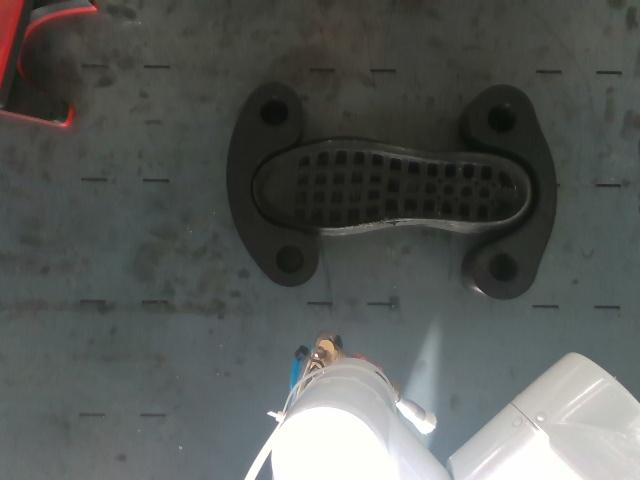shoes: (254, 141, 529, 227)
